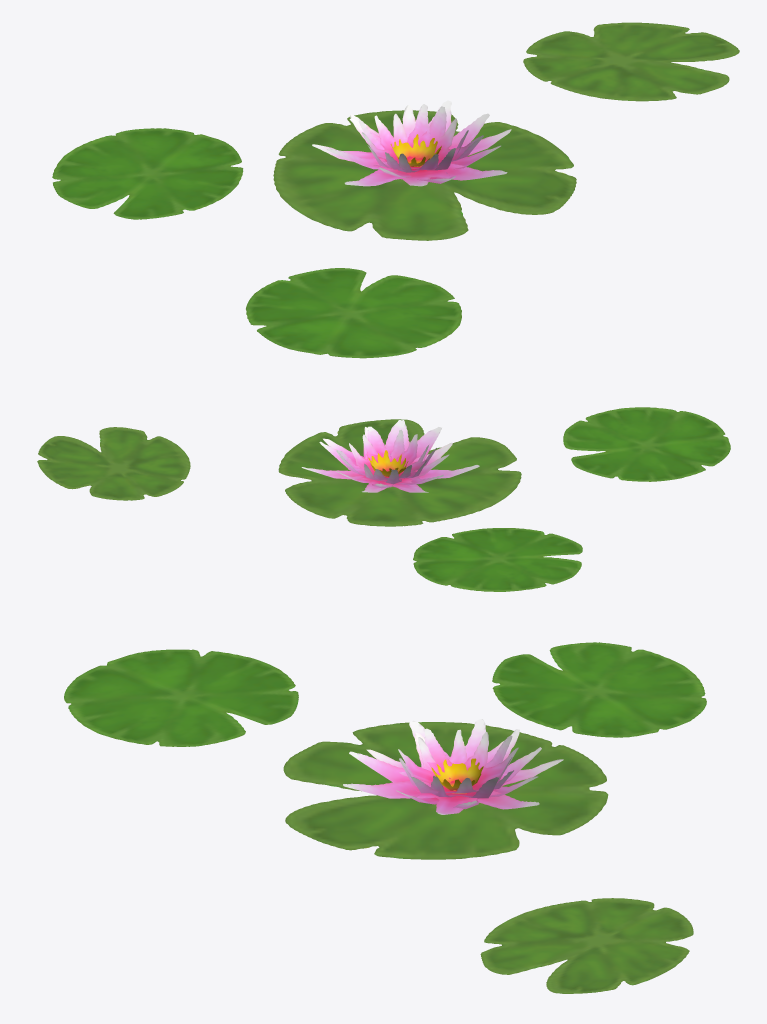
The model's file is P_LilyPadCluster1.obj.
3 views of the same model, one above another, from view 1: azimuth 30°, elevation 25°; view 2: azimuth 150°, elevation 25°; view 3: azimuth 270°, elevation 25° (orthographic). The views are drawn at different scales.
Size of the model in its own units: 2.14 by 0.1258 by 1.74.
